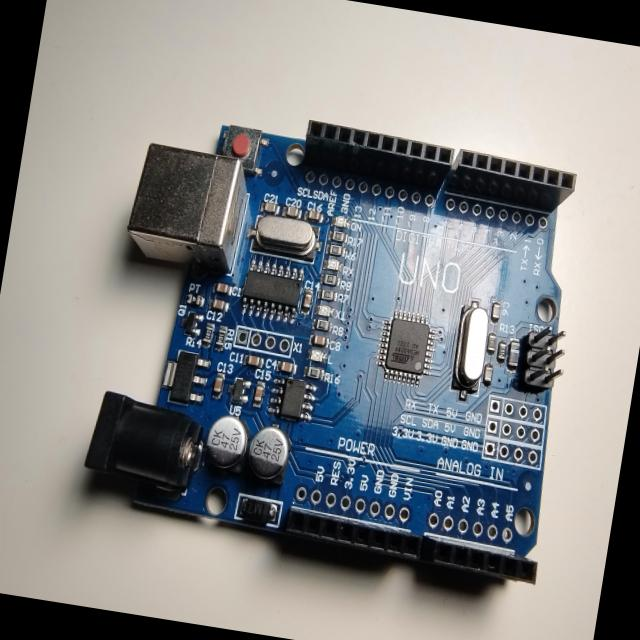arduino: (64, 74, 621, 626)
